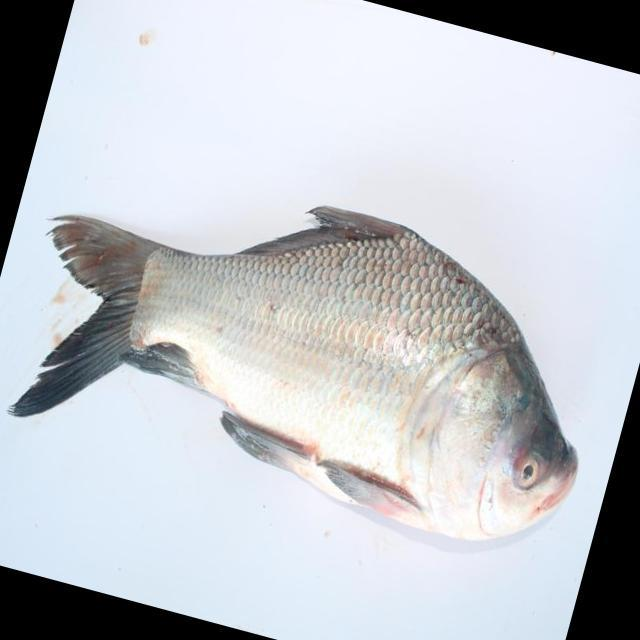Catla: (8, 203, 588, 540)
